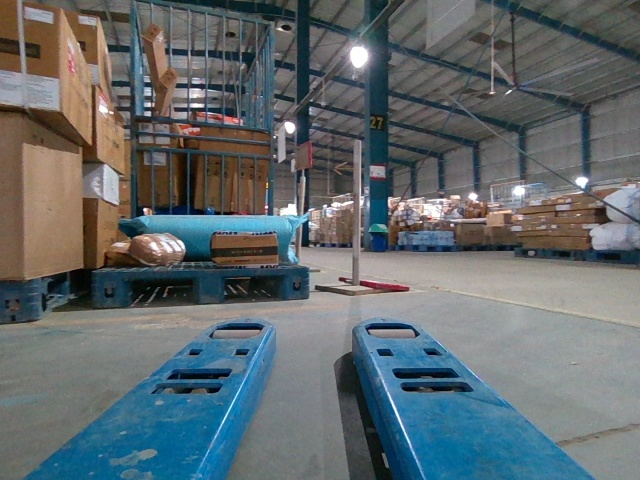block: (92, 270, 130, 311), (192, 271, 225, 303), (281, 265, 308, 299)
front: (95, 267, 310, 305)
hole pallet: (127, 279, 197, 308), (221, 277, 284, 301)
